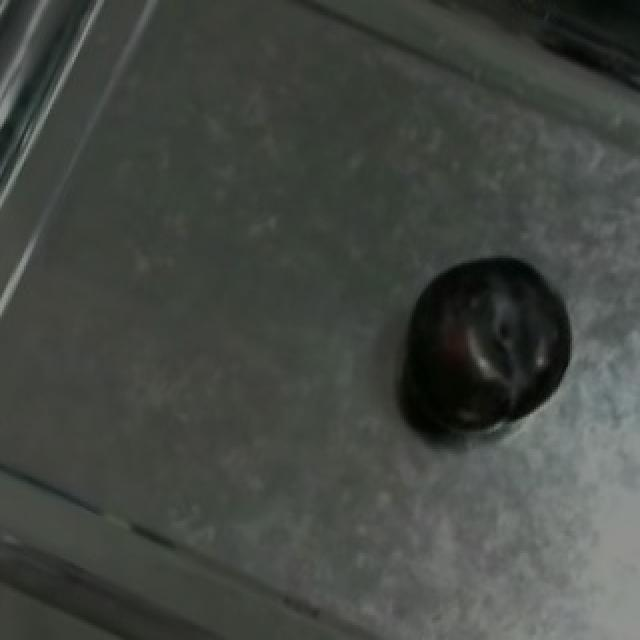Fruit: (386, 236, 586, 447), (546, 0, 640, 104)
